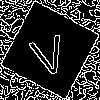V: (25, 25, 71, 79)
